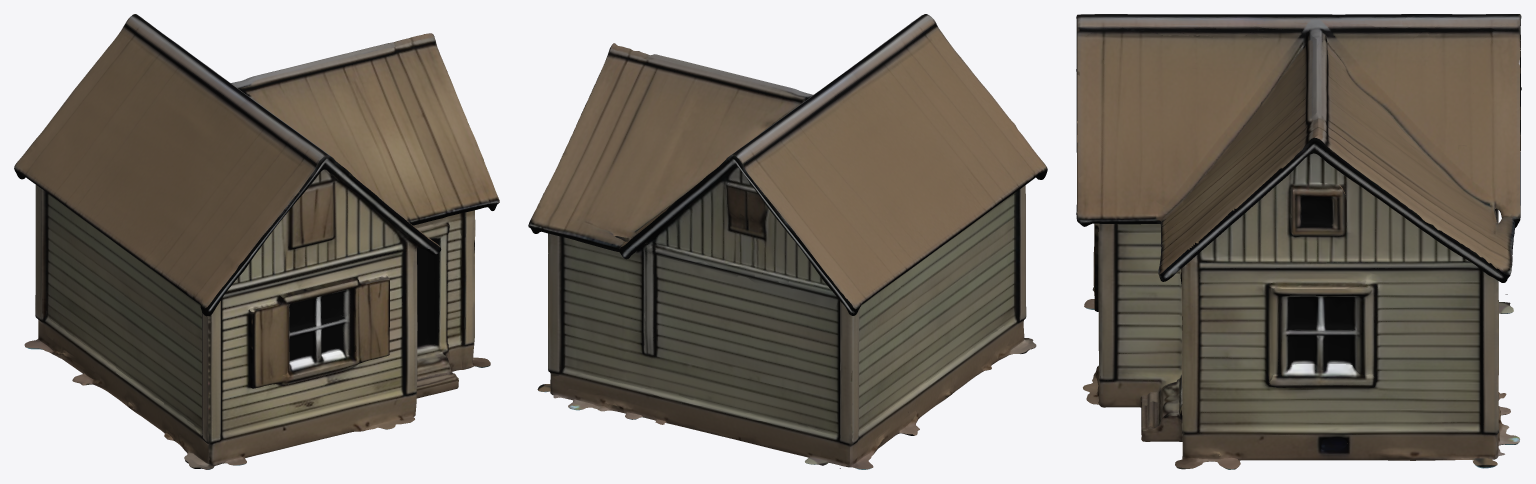
File: house-abandoned-cottage.glb
3 views of the same model, side by side, from view 1: azimuth 30°, elevation 25°; view 2: azimuth 150°, elevation 25°; view 3: azimuth 270°, elevation 25° (orthographic). The views are drawn at different scales.
Parts seen in each view (by area): view 1: tmpvv93r6tm.ply; view 2: tmpvv93r6tm.ply; view 3: tmpvv93r6tm.ply.
Boxes of the visible parts, <box> form: tmpvv93r6tm.ply: <box>14,14,499,469</box>; tmpvv93r6tm.ply: <box>528,14,1047,469</box>; tmpvv93r6tm.ply: <box>1076,14,1521,469</box>.
Bounding box in the file's own units: 1.96 × 1.64 × 1.96.
1 material, 1 textured.
